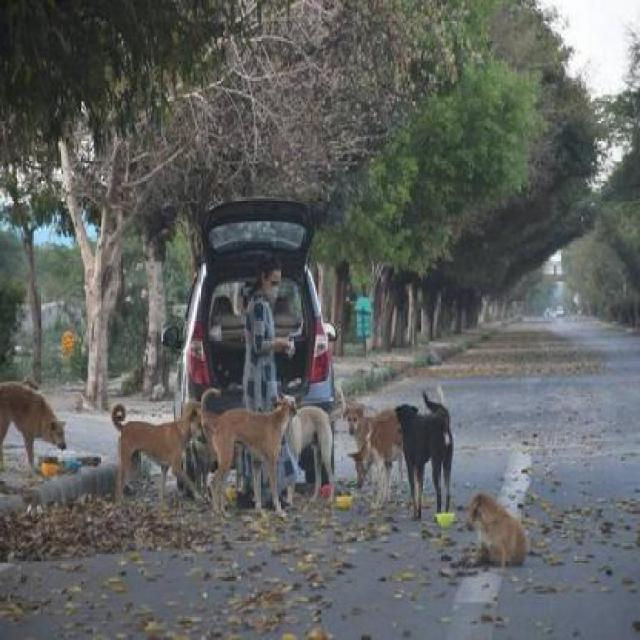dog: (198, 394, 292, 520), (112, 402, 207, 510), (386, 382, 457, 514), (282, 389, 348, 510), (341, 397, 406, 503), (0, 384, 68, 472), (465, 492, 532, 570), (345, 399, 347, 404)
